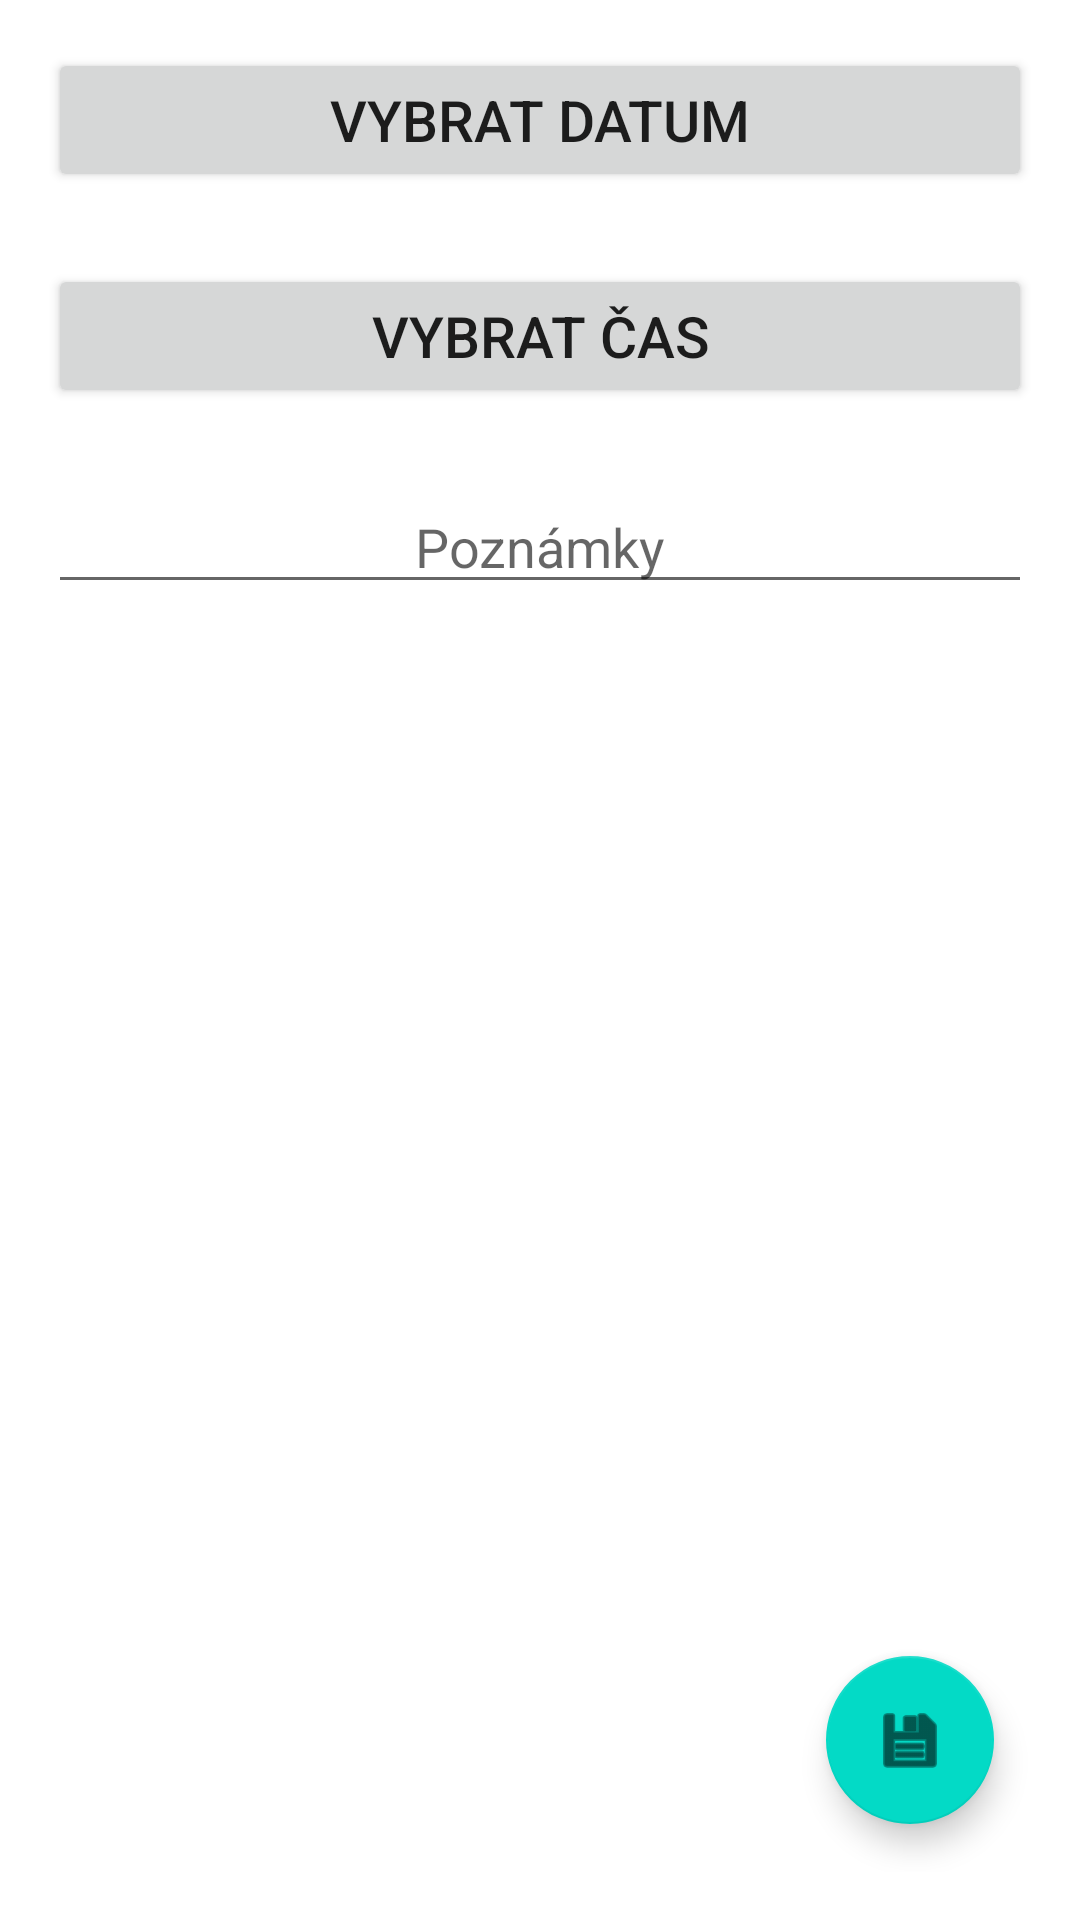

Locate icon controls on the screen. Image size 1080x1920, boxes as (x1, y1, x2, y2).
save: (826, 1656, 994, 1824)
